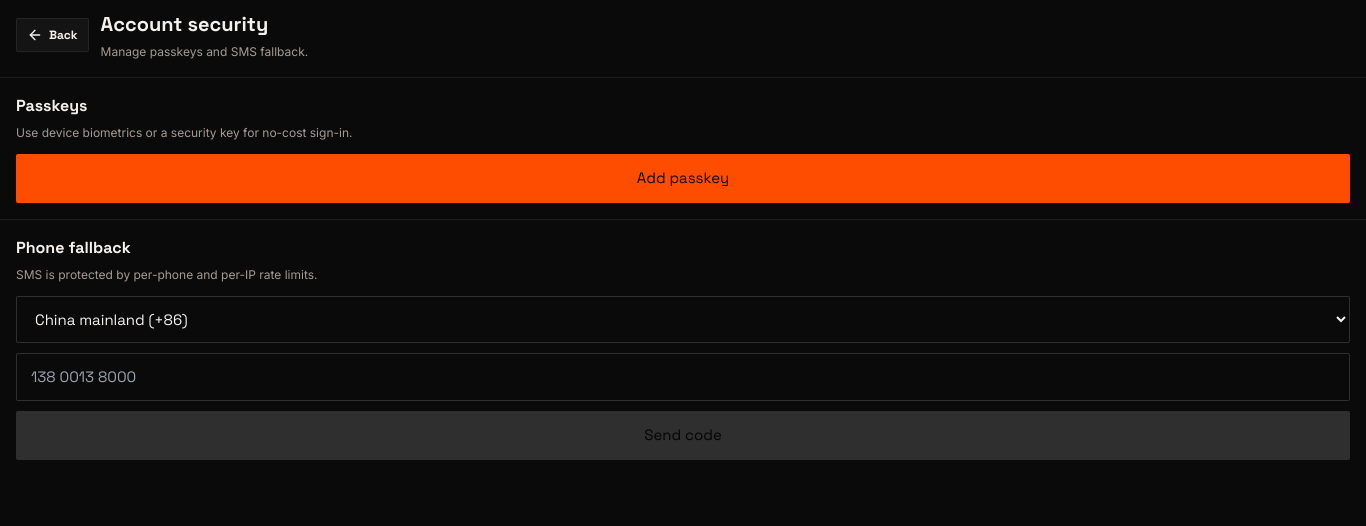
Scenario: SecuritySettingsPage › completes passkey registration ceremony
Click the button "Add passkey": (683, 178) [16,154,1350,202]
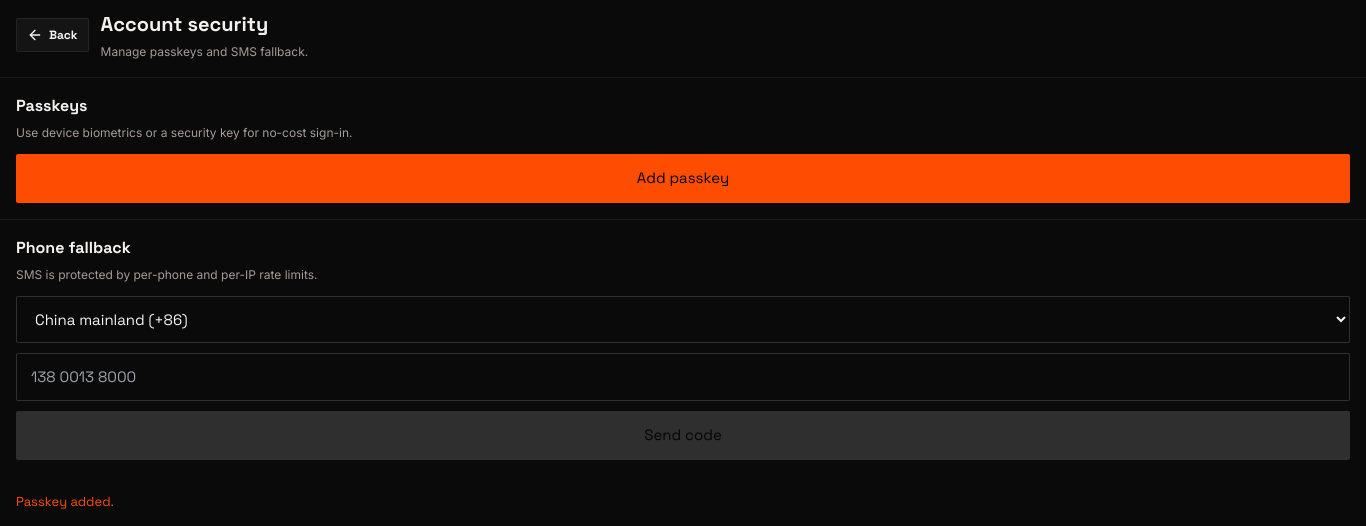
Expected: the text "Passkey added." is shown, [16,492,114,510]
